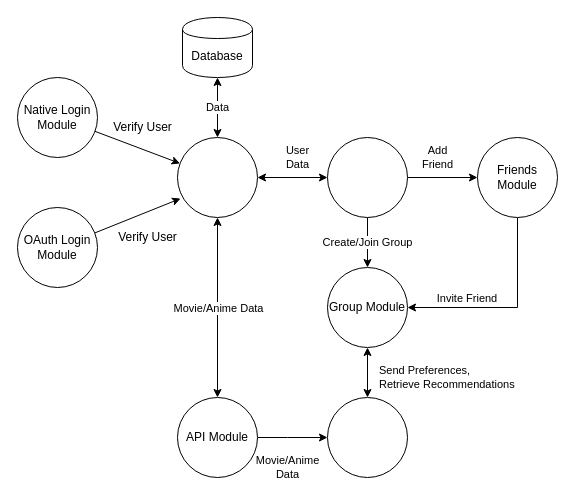
This 575x498 diagram has some shape labels left out. Here are the shapes that lost their labels. From the top down, the centre of each, then its label:
the point at 217,177: DB Module
the point at 367,177: Profile Module
the point at 367,437: Matching Algorithm Module
